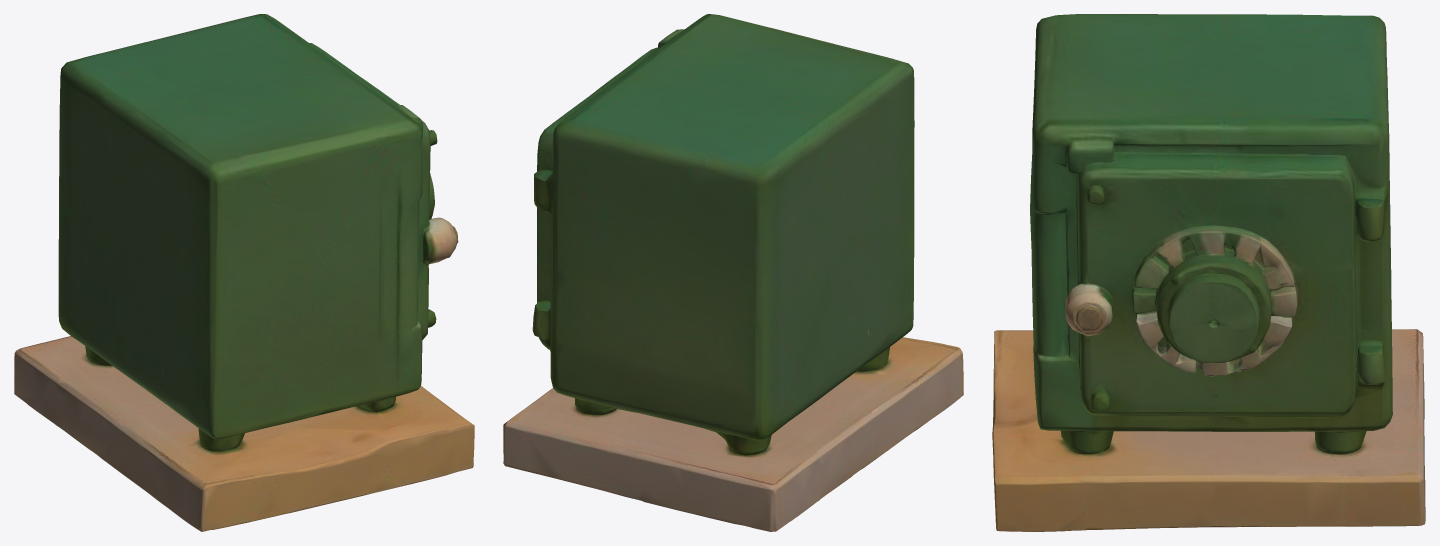
The model's file is safe.glb.
3 renders of one model, left to right at view 1: azimuth 30°, elevation 25°; view 2: azimuth 150°, elevation 25°; view 3: azimuth 270°, elevation 25°, orthographic. The views are drawn at different scales.
Parts seen in each view (by area): view 1: tripo_node_d455d8c6-65da-4b61-9309-bd201ccbe822; view 2: tripo_node_d455d8c6-65da-4b61-9309-bd201ccbe822; view 3: tripo_node_d455d8c6-65da-4b61-9309-bd201ccbe822.
Part boxes in pixels (left/top/right/bottom): tripo_node_d455d8c6-65da-4b61-9309-bd201ccbe822: left=14, top=14, right=474, bottom=531; tripo_node_d455d8c6-65da-4b61-9309-bd201ccbe822: left=503, top=14, right=963, bottom=531; tripo_node_d455d8c6-65da-4b61-9309-bd201ccbe822: left=992, top=14, right=1425, bottom=531.
Size of the model in its own units: 0.9428 by 1 by 1.01.
1 material, 1 textured.
